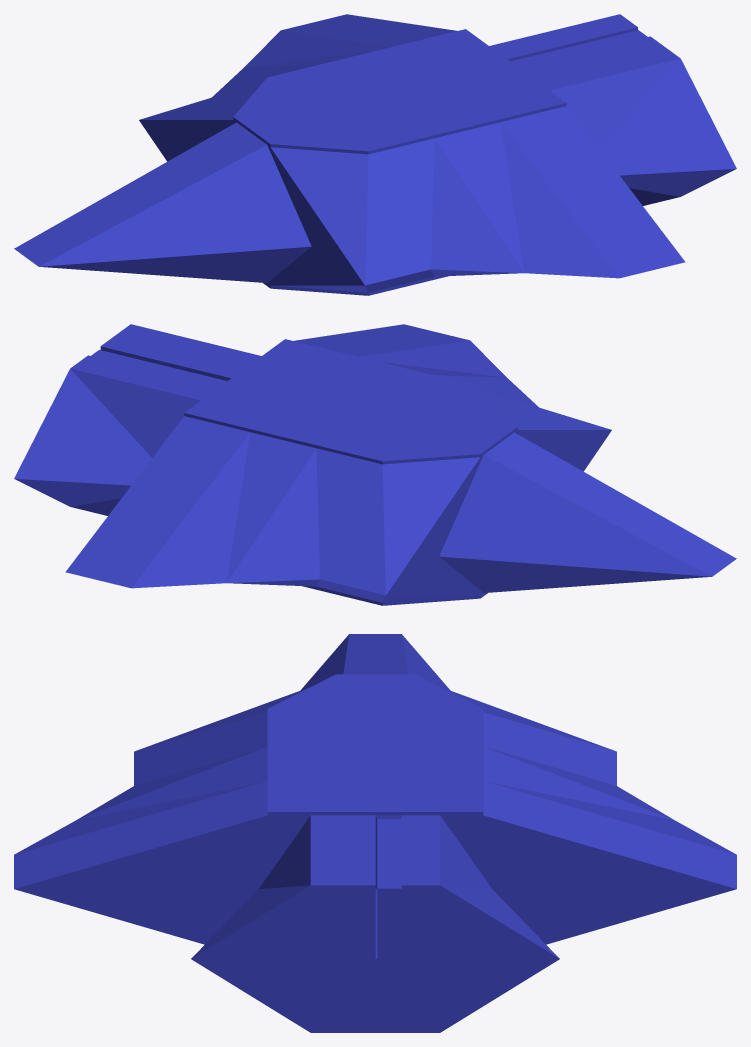
The model's file is player.fbx.
3 renders of one model, top to bottom at view 1: azimuth 30°, elevation 25°; view 2: azimuth 150°, elevation 25°; view 3: azimuth 270°, elevation 25°, orthographic. The views are drawn at different scales.
Visible parts, largest first — view 1: Cube; view 2: Cube; view 3: Cube.
Part boxes in pixels (bbox=[...]): Cube: bbox=[14, 14, 736, 295]; Cube: bbox=[14, 324, 736, 605]; Cube: bbox=[14, 634, 736, 1032].
Size of the model in its own units: 473 by 104 by 444.
